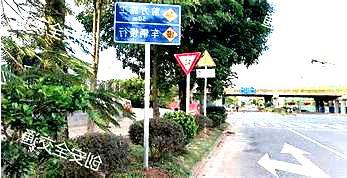sign: (115, 2, 180, 44)
